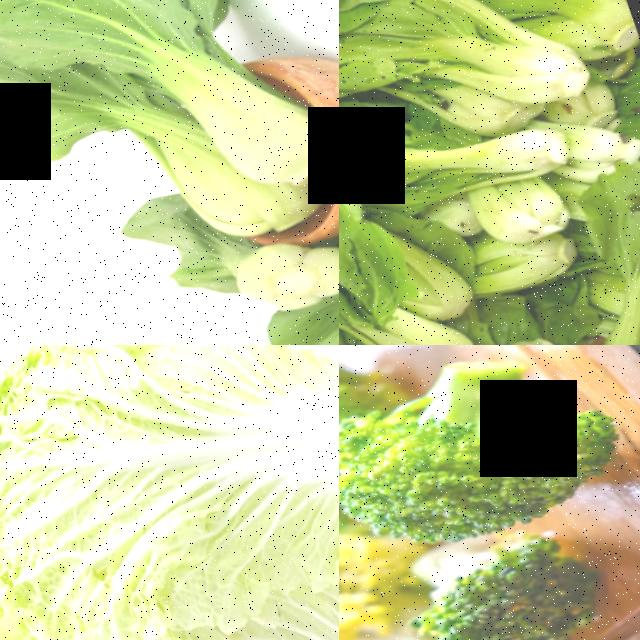bok choy: (0, 0, 211, 268), (102, 0, 339, 199), (358, 73, 572, 218), (517, 135, 640, 345), (149, 213, 339, 342), (339, 0, 533, 115), (339, 302, 584, 345), (463, 153, 567, 250), (339, 160, 387, 345)
broccoli: (339, 345, 597, 563), (354, 494, 640, 640)
cabbage: (0, 345, 339, 640)
